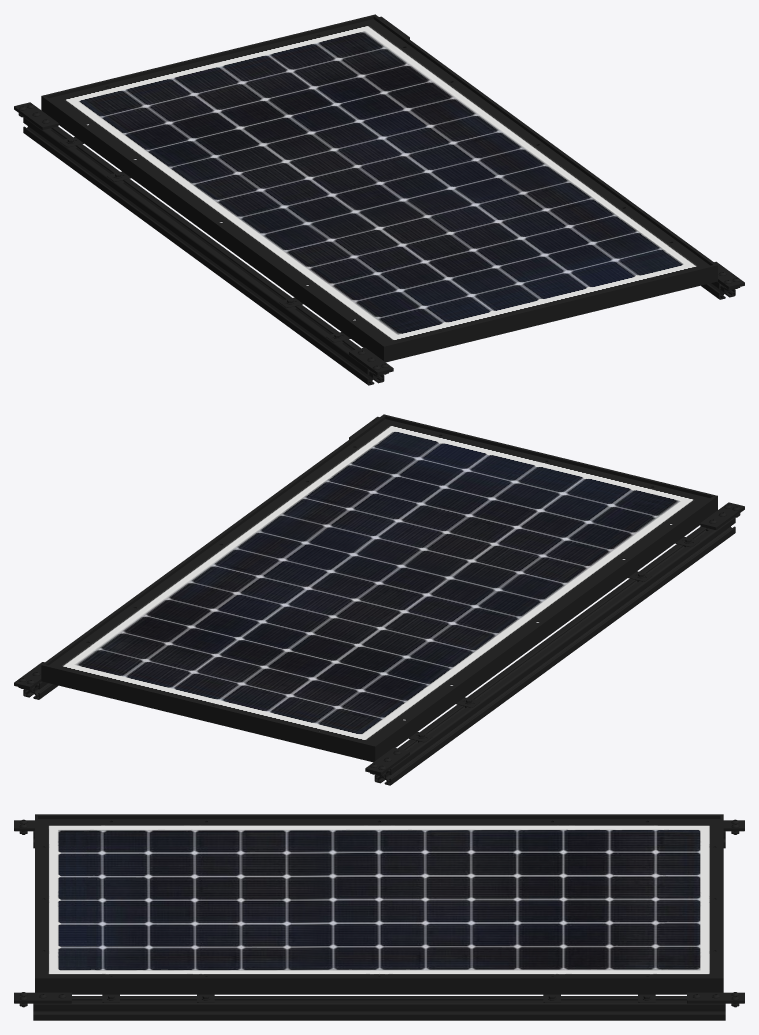
The model's file is sp-solar220.glb.
The picture shows the model from 3 angles, top to bottom: view 1: azimuth 30°, elevation 25°; view 2: azimuth 150°, elevation 25°; view 3: azimuth 270°, elevation 25°; orthographic projection.
Visible parts, largest first — view 1: solar220; view 2: solar220; view 3: solar220.
Boxes of the visible parts, left/top/right/bottom form: solar220: left=14, top=14, right=744, bottom=385; solar220: left=14, top=414, right=744, bottom=785; solar220: left=14, top=814, right=744, bottom=1020.
Size of the model in its own units: 0.8419 by 0.0752 by 1.44.
Materials: 1 (1 with a texture image).
